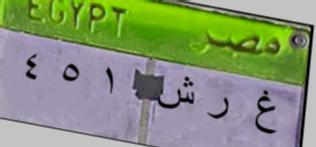1: (95, 63, 121, 100)
4: (20, 48, 42, 87)
5: (56, 58, 81, 91)
ghayn: (249, 85, 281, 141)
raa: (205, 94, 231, 130)
sheen: (156, 74, 196, 116)
